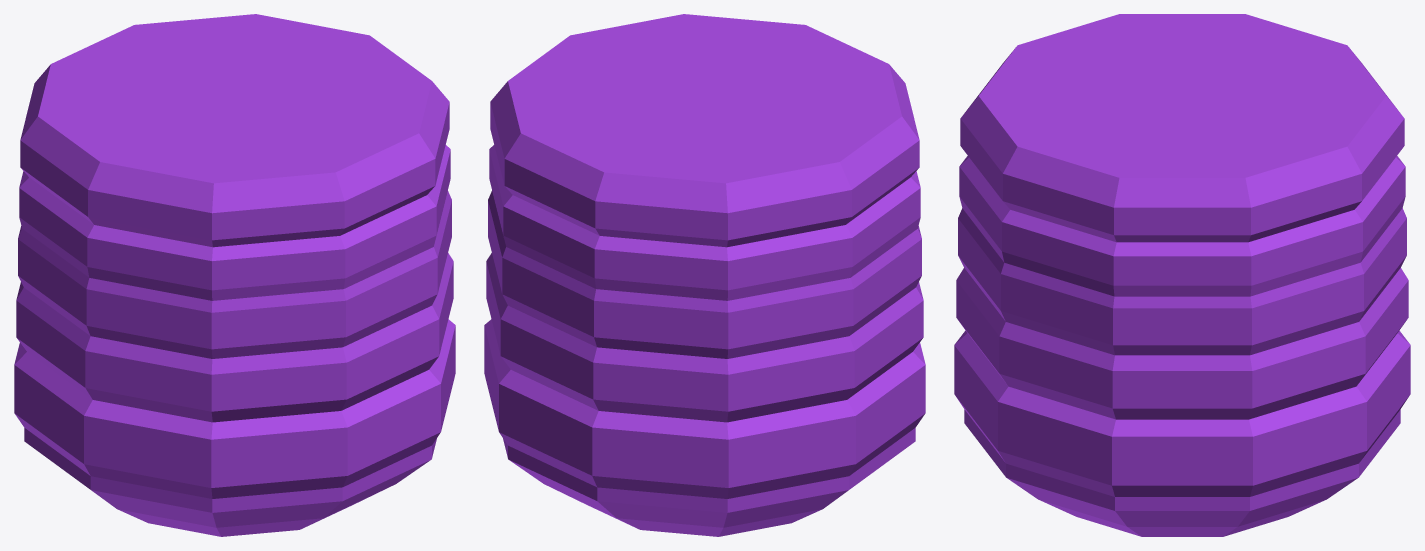
The model's file is Bottle.002_chunks.fbx.
The picture shows the model from 3 angles, left to right: view 1: azimuth 30°, elevation 25°; view 2: azimuth 150°, elevation 25°; view 3: azimuth 270°, elevation 25°; orthographic projection.
Visible parts, largest first — view 1: Bottle.002_0; view 2: Bottle.002_0; view 3: Bottle.002_0.
Part boxes in pixels (bbox=[...]): Bottle.002_0: bbox=[14, 14, 455, 536]; Bottle.002_0: bbox=[484, 14, 925, 536]; Bottle.002_0: bbox=[954, 14, 1410, 536].
Size of the model in its own units: 186 by 184 by 196.
